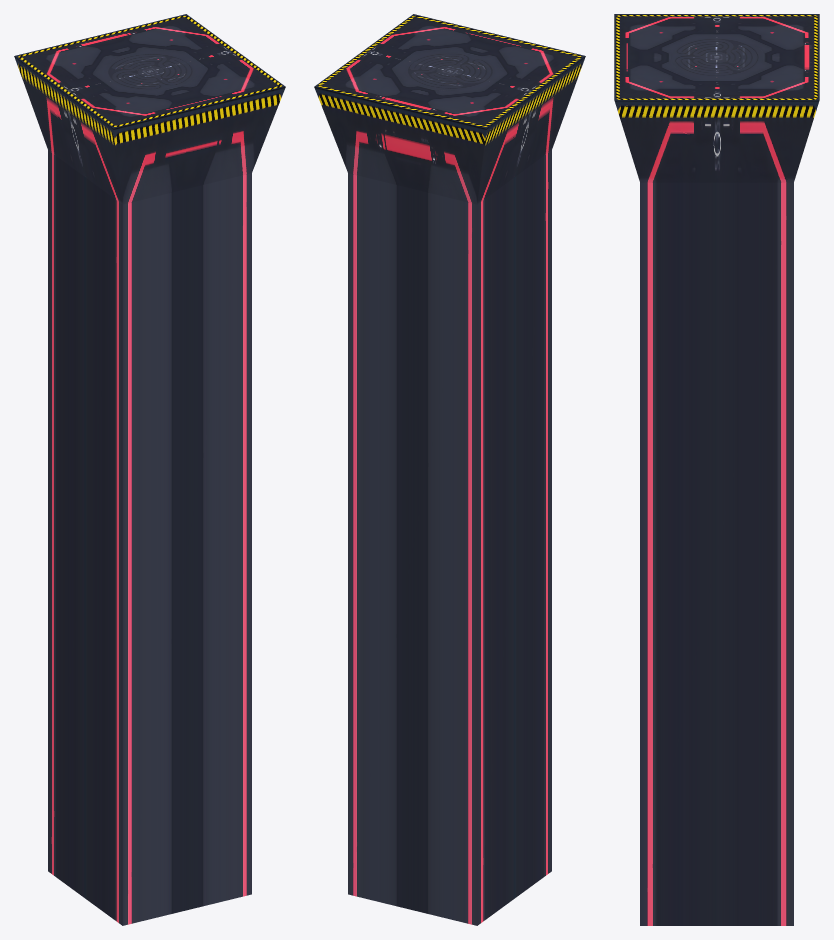
The model's file is start.glb.
3 views of the same model, side by side, from view 1: azimuth 30°, elevation 25°; view 2: azimuth 150°, elevation 25°; view 3: azimuth 270°, elevation 25° (orthographic). The views are drawn at different scales.
Parts seen in each view (by area): view 1: Cube; view 2: Cube; view 3: Cube.
Part boxes in pixels (x1,y1,x2,y2): Cube: [14, 14, 285, 925]; Cube: [314, 14, 585, 925]; Cube: [614, 14, 819, 925].
Size of the model in its own units: 2 by 9 by 2.
1 material, 1 textured.
